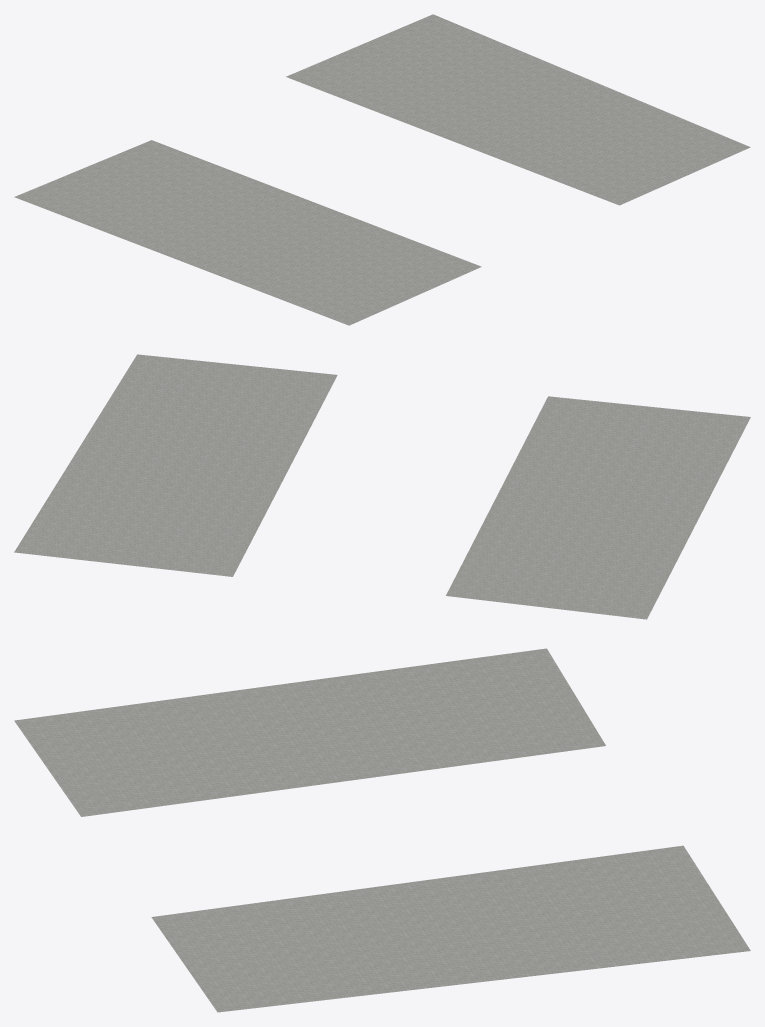
File: street_stone_C.FBX
3 views of the same model, one above another, from view 1: azimuth 30°, elevation 25°; view 2: azimuth 150°, elevation 25°; view 3: azimuth 270°, elevation 25° (orthographic). The views are drawn at different scales.
Visible parts, largest first — view 1: street_stone_C; view 2: street_stone_C; view 3: street_stone_C.
Part boxes in pixels (x1,y1,x2,y2): street_stone_C: (14, 14, 750, 325); street_stone_C: (14, 354, 750, 619); street_stone_C: (14, 648, 750, 1012).
Bounding box in the file's own units: 4802 × 2.52e-13 × 4107.
1 material, 1 textured.
